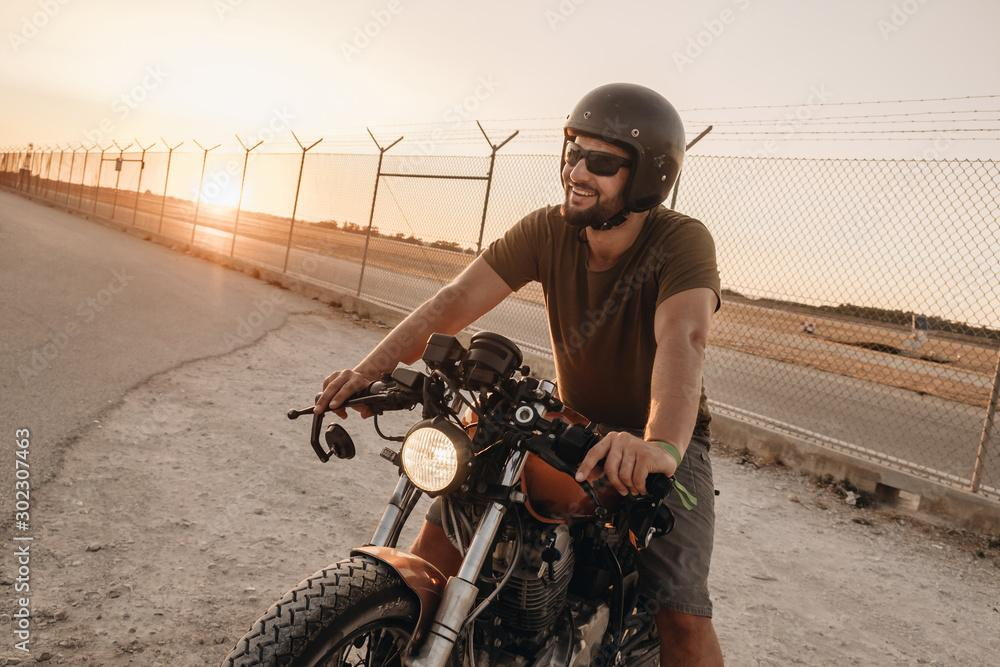helmet: (558, 82, 687, 231)
